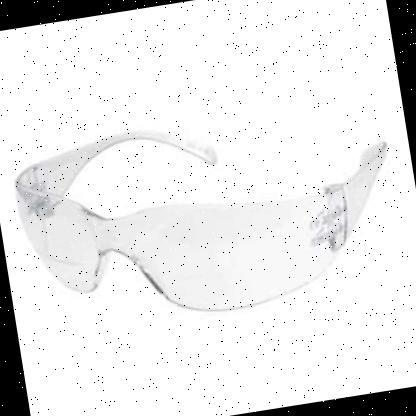oculos: (5, 87, 416, 343)
